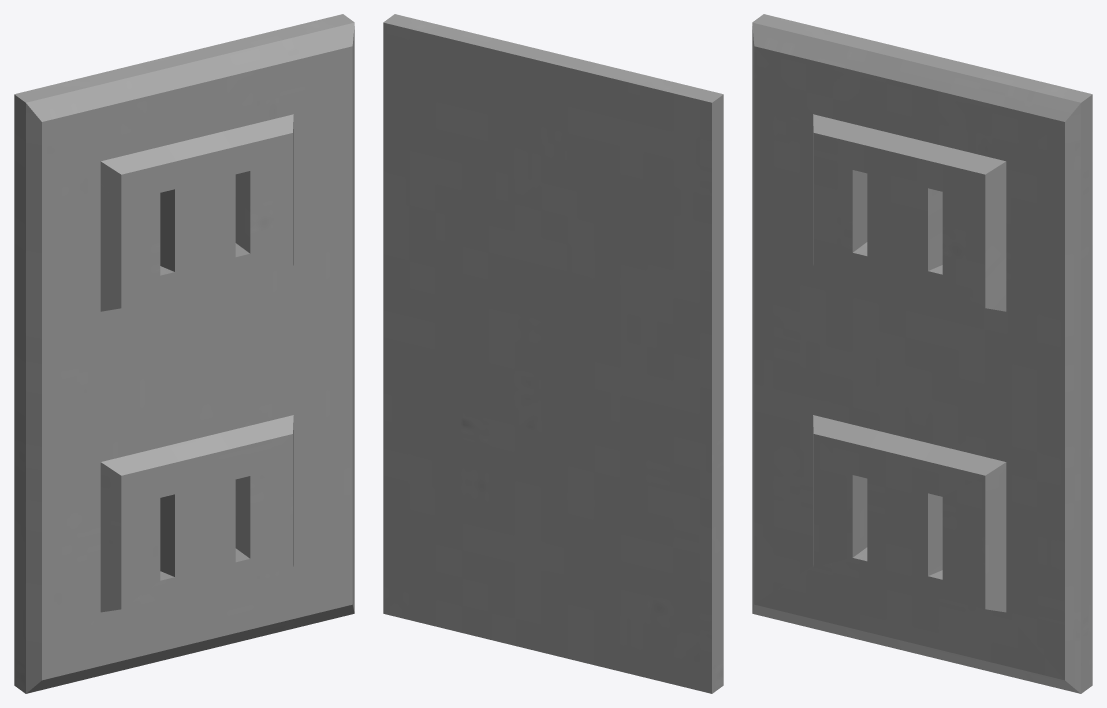
File: tomada.glb
3 renders of one model, left to right at view 1: azimuth 30°, elevation 25°; view 2: azimuth 150°, elevation 25°; view 3: azimuth 330°, elevation 25°, orthographic.
Visible parts, largest first — view 1: Tomada; view 2: Tomada; view 3: Tomada.
Boxes of the visible parts, x1,y1,x2,y2 form: Tomada: (14,14,354,693); Tomada: (383,14,723,693); Tomada: (752,14,1092,693).
Size of the model in its own units: 0.088 by 0.1511 by 0.0133.
Materials: 1 (1 with a texture image).
